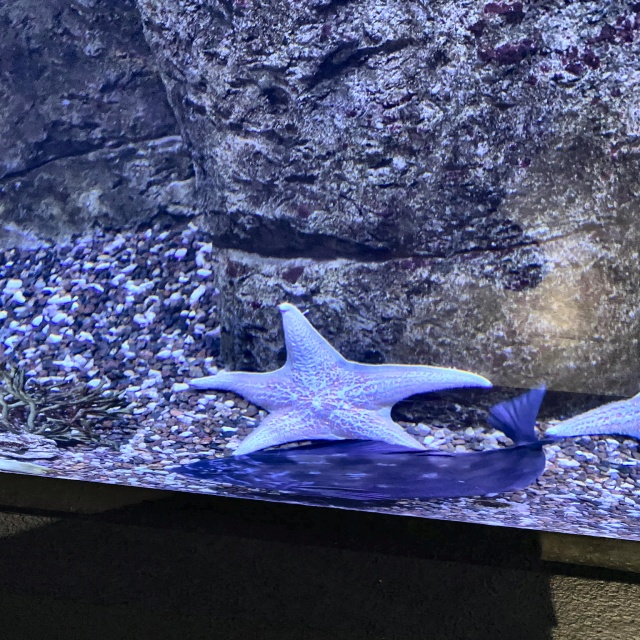fish: (172, 384, 545, 499)
starfish: (188, 303, 491, 456), (546, 392, 639, 439)
